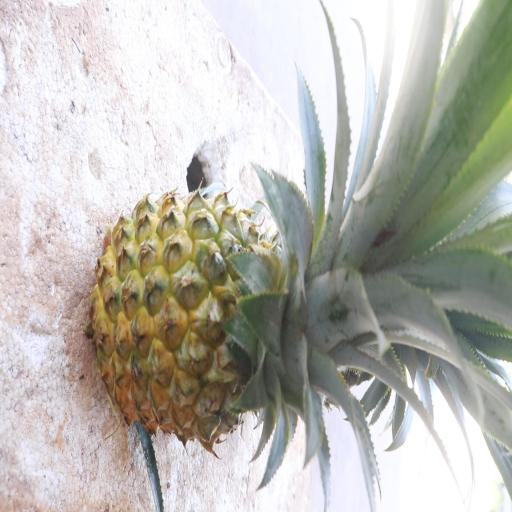Pineapple - v8 v1: (86, 176, 400, 464)
